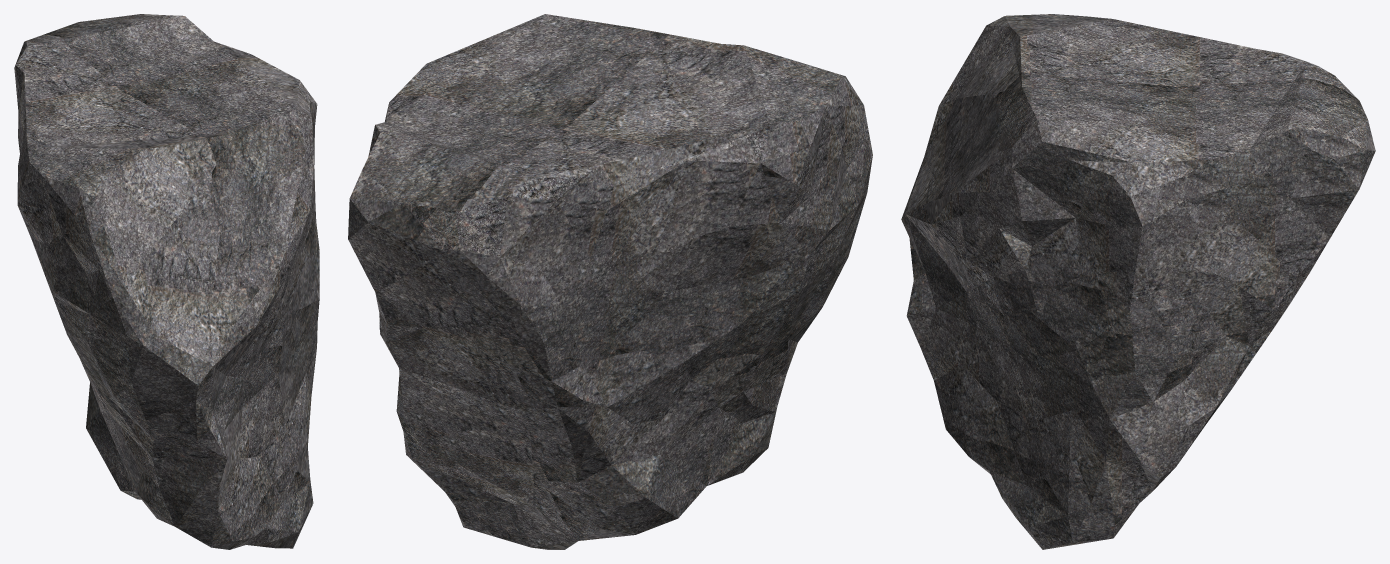
The picture shows the model from 3 angles, left to right: view 1: azimuth 30°, elevation 25°; view 2: azimuth 150°, elevation 25°; view 3: azimuth 270°, elevation 25°; orthographic projection. The views are drawn at different scales.
Visible parts, largest first — view 1: skp2BB; view 2: skp2BB; view 3: skp2BB.
Boxes of the visible parts, x1,y1,x2,y2 form: skp2BB: (14, 14, 319, 549); skp2BB: (348, 14, 872, 549); skp2BB: (901, 14, 1375, 549).
Size of the model in its own units: 1427 by 1898 by 1864.
